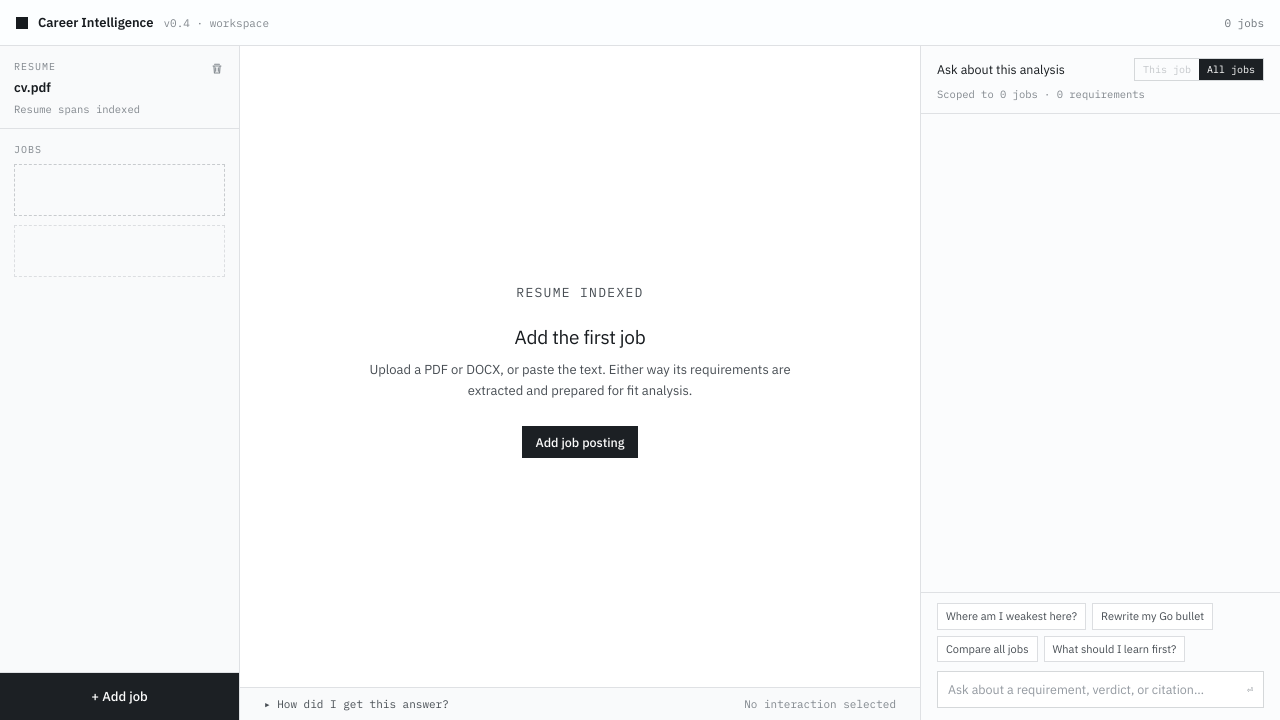
Test: adding a job › opens the dialog rather than a native prompt
This screenshot has width=1280, height=720.
What coordinates should you click on to do the following:
click the button "+ Add job"
I would click on:
 (120, 696)
Its box is [0, 672, 239, 719].
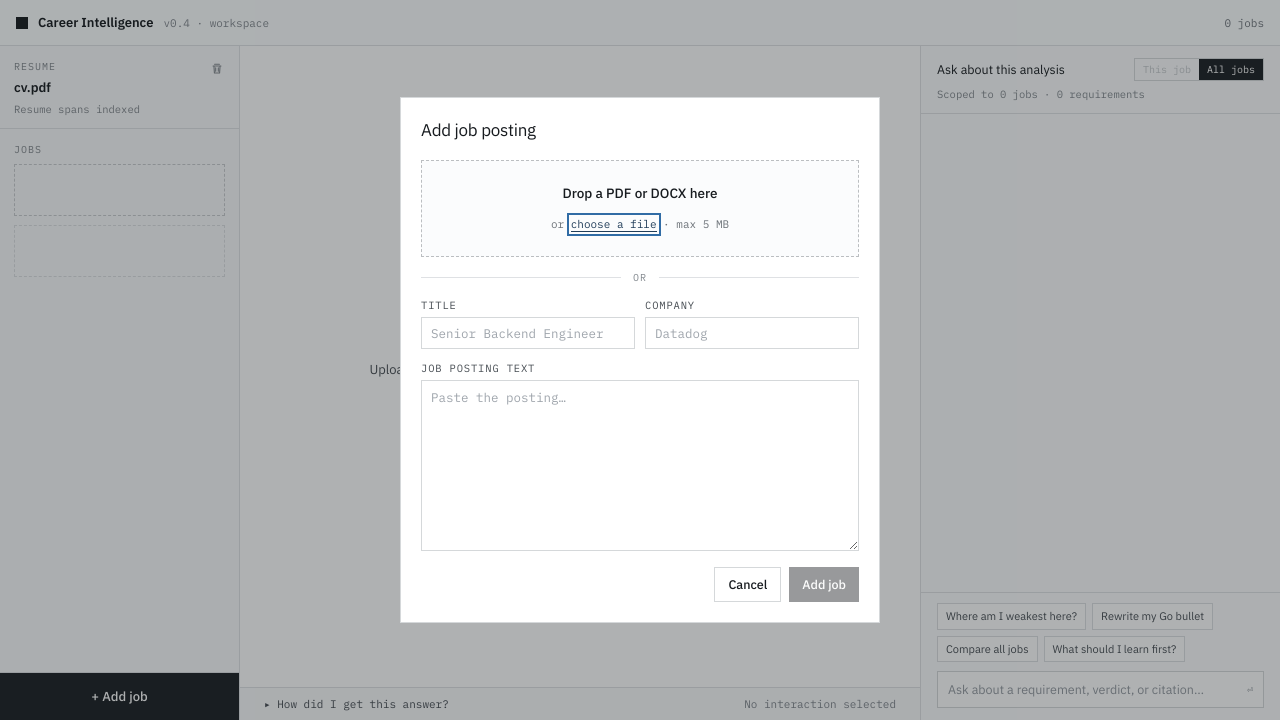
expect the heading "Add job posting" is shown: met, box [421, 119, 536, 141]
